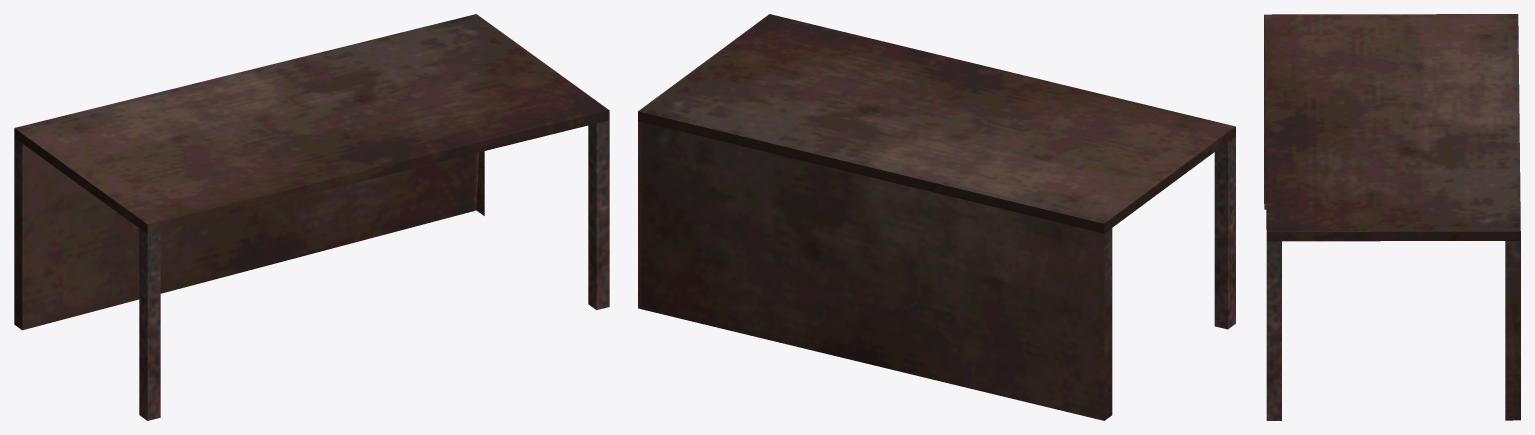
File: desk2_alt4_weathered.obj
3 views of the same model, side by side, from view 1: azimuth 30°, elevation 25°; view 2: azimuth 150°, elevation 25°; view 3: azimuth 270°, elevation 25° (orthographic). The views are drawn at different scales.
Visible parts, largest first — view 1: desk2_alt4_weathered; view 2: desk2_alt4_weathered; view 3: desk2_alt4_weathered.
Boxes of the visible parts, left/top/right/bottom form: desk2_alt4_weathered: left=14, top=14, right=609, bottom=420; desk2_alt4_weathered: left=638, top=14, right=1235, bottom=420; desk2_alt4_weathered: left=1264, top=14, right=1520, bottom=420.
Size of the model in its own units: 2.21 by 0.8911 by 1.1.
